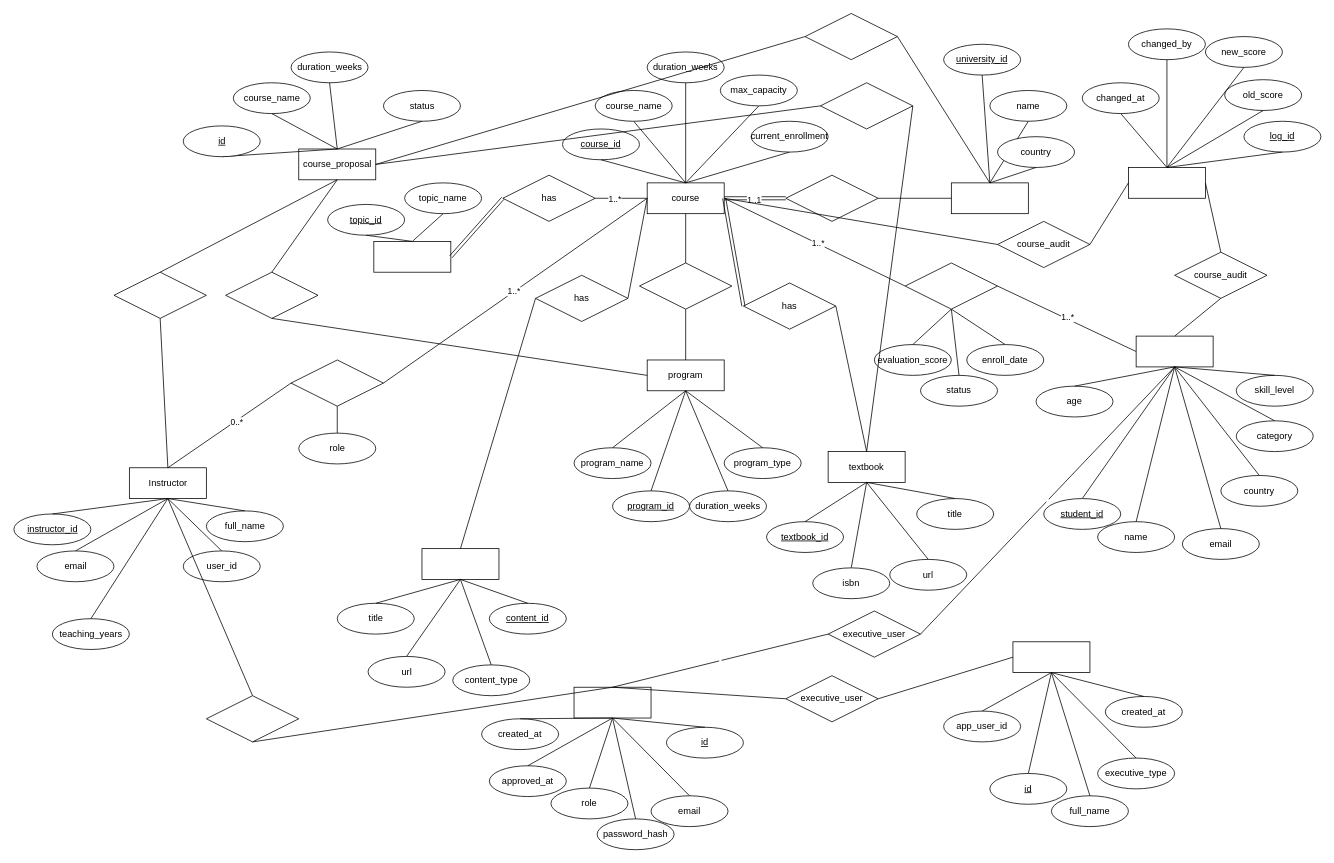
Image size: 1334x863. Some labels were removed from this diagram. Here are the shapes that lost their labels. From the top down, the box of each, then its label:
(804, 13, 897, 60): under_university
(820, 82, 913, 129): reference_textbook
(785, 174, 878, 221): partners with
(951, 182, 1028, 214): university
(1128, 167, 1205, 198): audit_log
(373, 241, 451, 272): topic
(113, 271, 206, 318): proposed_by
(225, 271, 318, 318): under_program
(639, 262, 732, 309): contains
(904, 262, 998, 309): enrollment
(1135, 335, 1213, 367): student
(290, 359, 383, 406): teaching_assignment
(421, 548, 499, 579): content_item
(1012, 641, 1090, 673): executive
(206, 695, 299, 742): instructor_user
(573, 686, 651, 718): app_user
